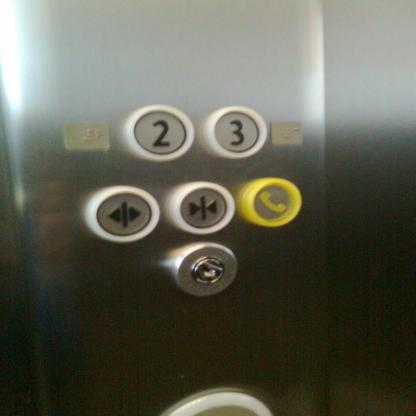2: (121, 102, 196, 164)
3: (200, 102, 272, 160)
call: (238, 174, 304, 230)
close: (166, 180, 236, 237)
keyhole: (167, 240, 238, 297)
open: (85, 183, 160, 245)
